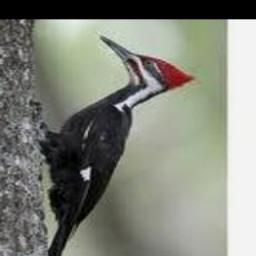Woodpecker: (39, 36, 197, 256)
